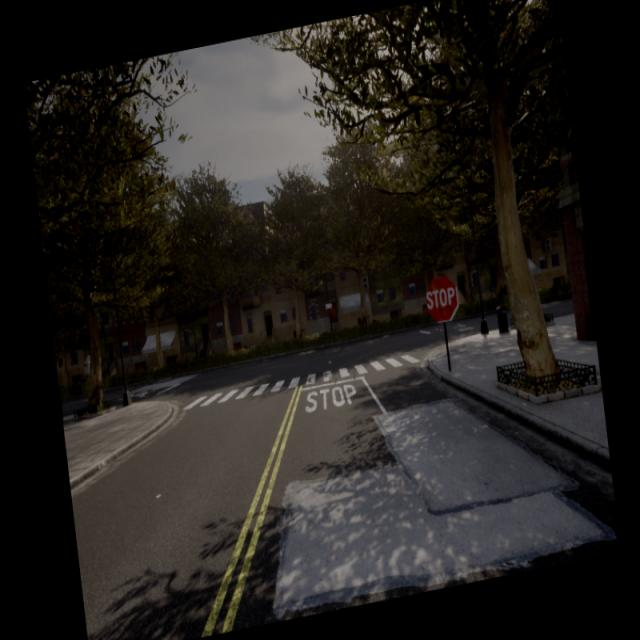stop sign: (423, 272, 461, 324)
